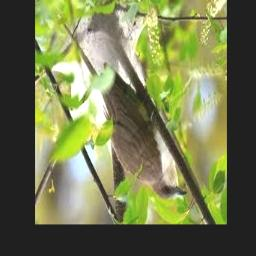Cuckoo: (63, 24, 187, 200)
